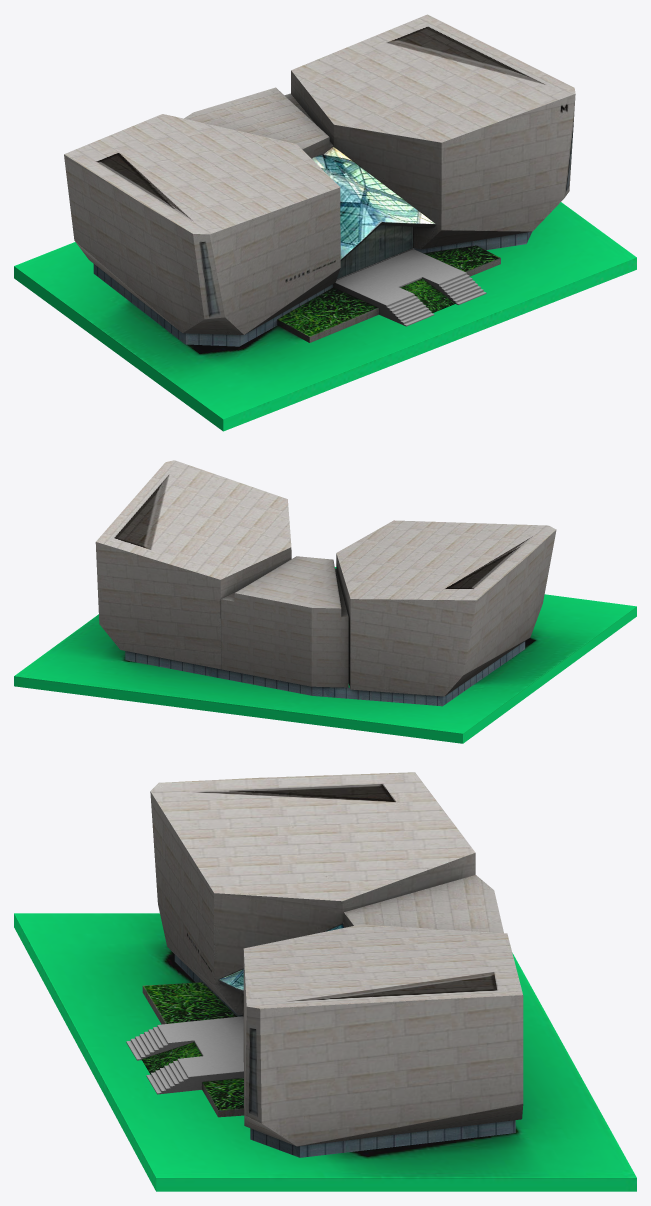
Rendered from lhs.gltf.
3 renders of one model, top to bottom at view 1: azimuth 30°, elevation 25°; view 2: azimuth 150°, elevation 25°; view 3: azimuth 270°, elevation 25°, orthographic. The views are drawn at different scales.
Parts seen in each view (by area): view 1: polySurface39 polySurface40 polySurface1, polySurface39 polySurface41 polySurface1, polySurface26 polySurface38 polySurface1, polySurface39 polySurface45 polySurface1, polySurface39 polySurface42 polySurface1, polySurface39 polySurface43 polySurface1, polySurface39 polySurface44 polySurface1, polySurface39 polySurface47 polySurface1, polySurface39 polySurface49 polySurface1, polySurface39 polySurface48 polySurface1, polySurface39 polySurface46 polySurface1; view 2: polySurface39 polySurface40 polySurface1, polySurface39 polySurface41 polySurface1, polySurface26 polySurface38 polySurface1, polySurface39 polySurface43 polySurface1, polySurface39 polySurface44 polySurface1; view 3: polySurface39 polySurface41 polySurface1, polySurface26 polySurface38 polySurface1, polySurface39 polySurface40 polySurface1, polySurface39 polySurface45 polySurface1, polySurface39 polySurface43 polySurface1, polySurface39 polySurface44 polySurface1, polySurface39 polySurface47 polySurface1, polySurface39 polySurface48 polySurface1, polySurface39 polySurface46 polySurface1.
Part boxes in pixels (left/top/right/bottom): polySurface39 polySurface40 polySurface1: left=64, top=114, right=340, bottom=334; polySurface39 polySurface41 polySurface1: left=291, top=14, right=575, bottom=249; polySurface26 polySurface38 polySurface1: left=14, top=202, right=636, bottom=431; polySurface39 polySurface45 polySurface1: left=333, top=249, right=486, bottom=326; polySurface39 polySurface42 polySurface1: left=312, top=146, right=435, bottom=260; polySurface39 polySurface43 polySurface1: left=184, top=87, right=333, bottom=158; polySurface39 polySurface44 polySurface1: left=93, top=232, right=531, bottom=346; polySurface39 polySurface47 polySurface1: left=277, top=287, right=378, bottom=342; polySurface39 polySurface49 polySurface1: left=337, top=225, right=412, bottom=278; polySurface39 polySurface48 polySurface1: left=423, top=245, right=500, bottom=276; polySurface39 polySurface46 polySurface1: left=400, top=278, right=455, bottom=313; polySurface39 polySurface40 polySurface1: left=336, top=520, right=556, bottom=696; polySurface39 polySurface41 polySurface1: left=95, top=460, right=291, bottom=669; polySurface26 polySurface38 polySurface1: left=14, top=567, right=636, bottom=743; polySurface39 polySurface43 polySurface1: left=221, top=556, right=348, bottom=687; polySurface39 polySurface44 polySurface1: left=125, top=641, right=525, bottom=706; polySurface39 polySurface41 polySurface1: left=243, top=924, right=523, bottom=1146; polySurface26 polySurface38 polySurface1: left=14, top=913, right=636, bottom=1191; polySurface39 polySurface40 polySurface1: left=150, top=772, right=475, bottom=1014; polySurface39 polySurface45 polySurface1: left=126, top=1016, right=243, bottom=1094; polySurface39 polySurface43 polySurface1: left=342, top=875, right=503, bottom=933; polySurface39 polySurface44 polySurface1: left=174, top=954, right=515, bottom=1157; polySurface39 polySurface47 polySurface1: left=142, top=982, right=237, bottom=1024; polySurface39 polySurface48 polySurface1: left=202, top=1078, right=244, bottom=1117; polySurface39 polySurface46 polySurface1: left=142, top=1042, right=202, bottom=1074.
Size of the model in its own units: 20.45 by 6.26 by 20.35.
Materials: 1 (1 with a texture image).
